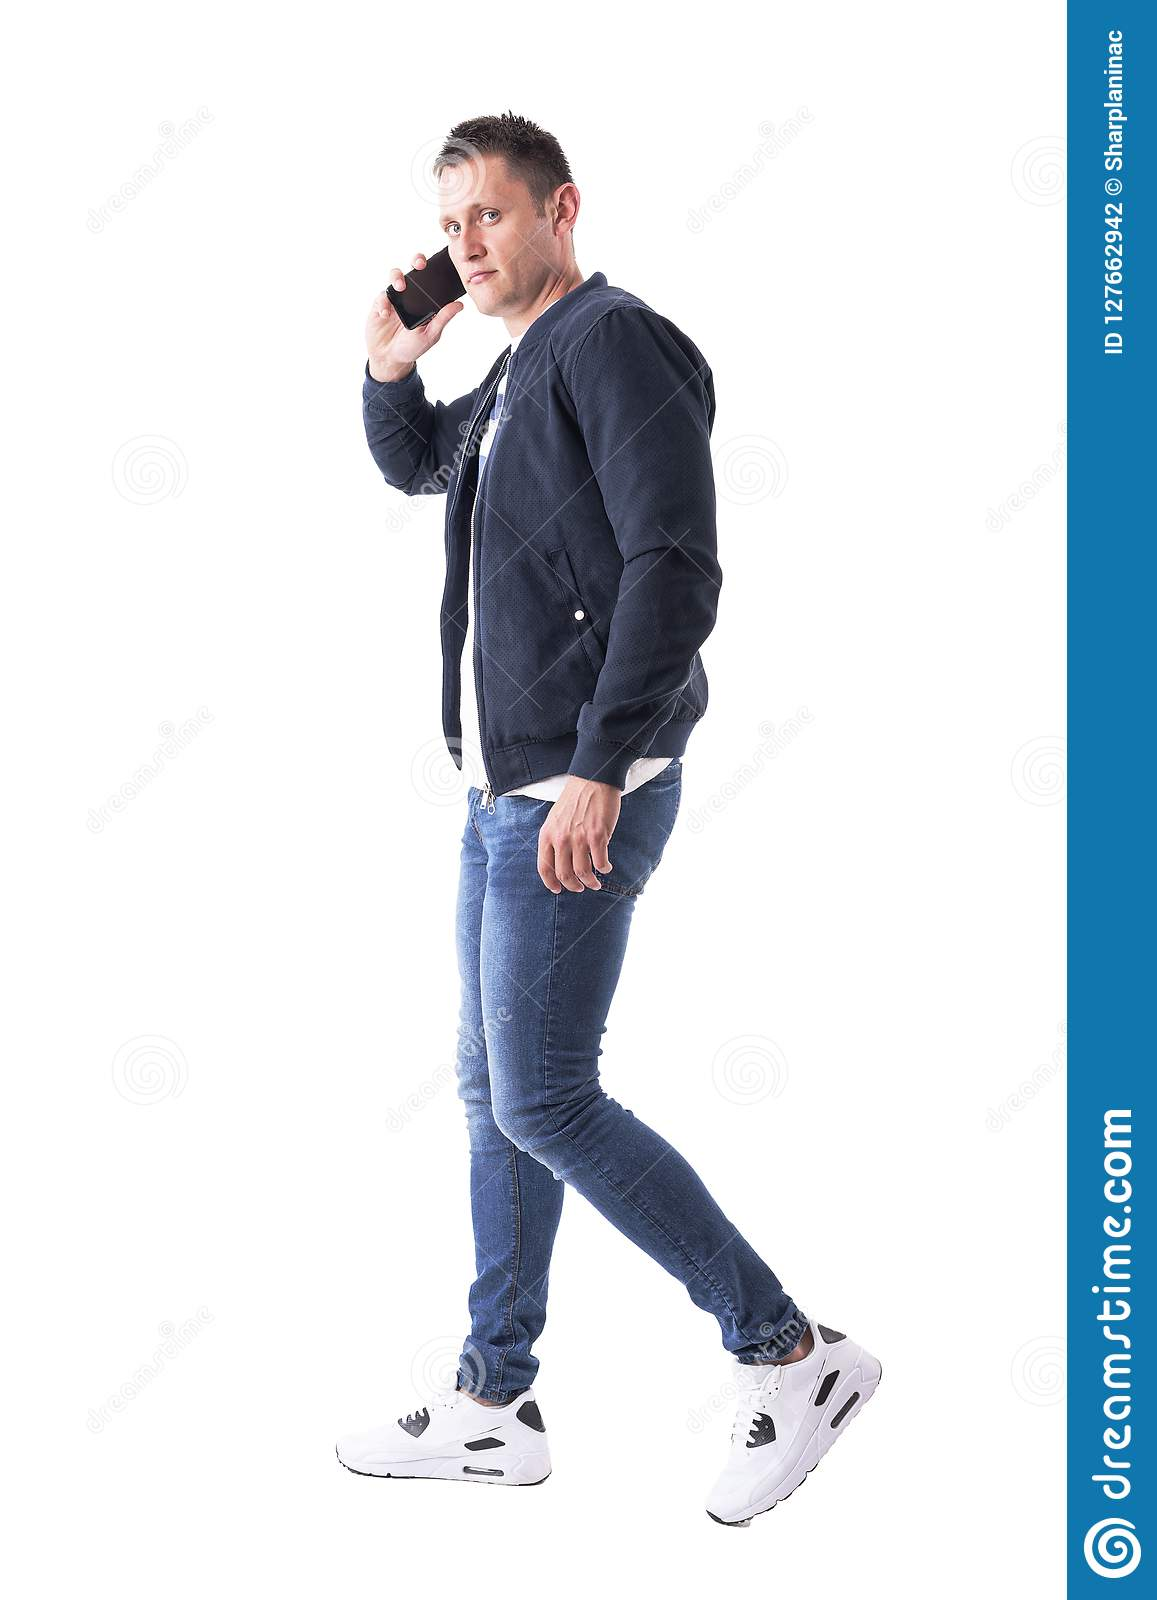phone: (384, 243, 469, 329)
talk: (365, 195, 514, 369)
